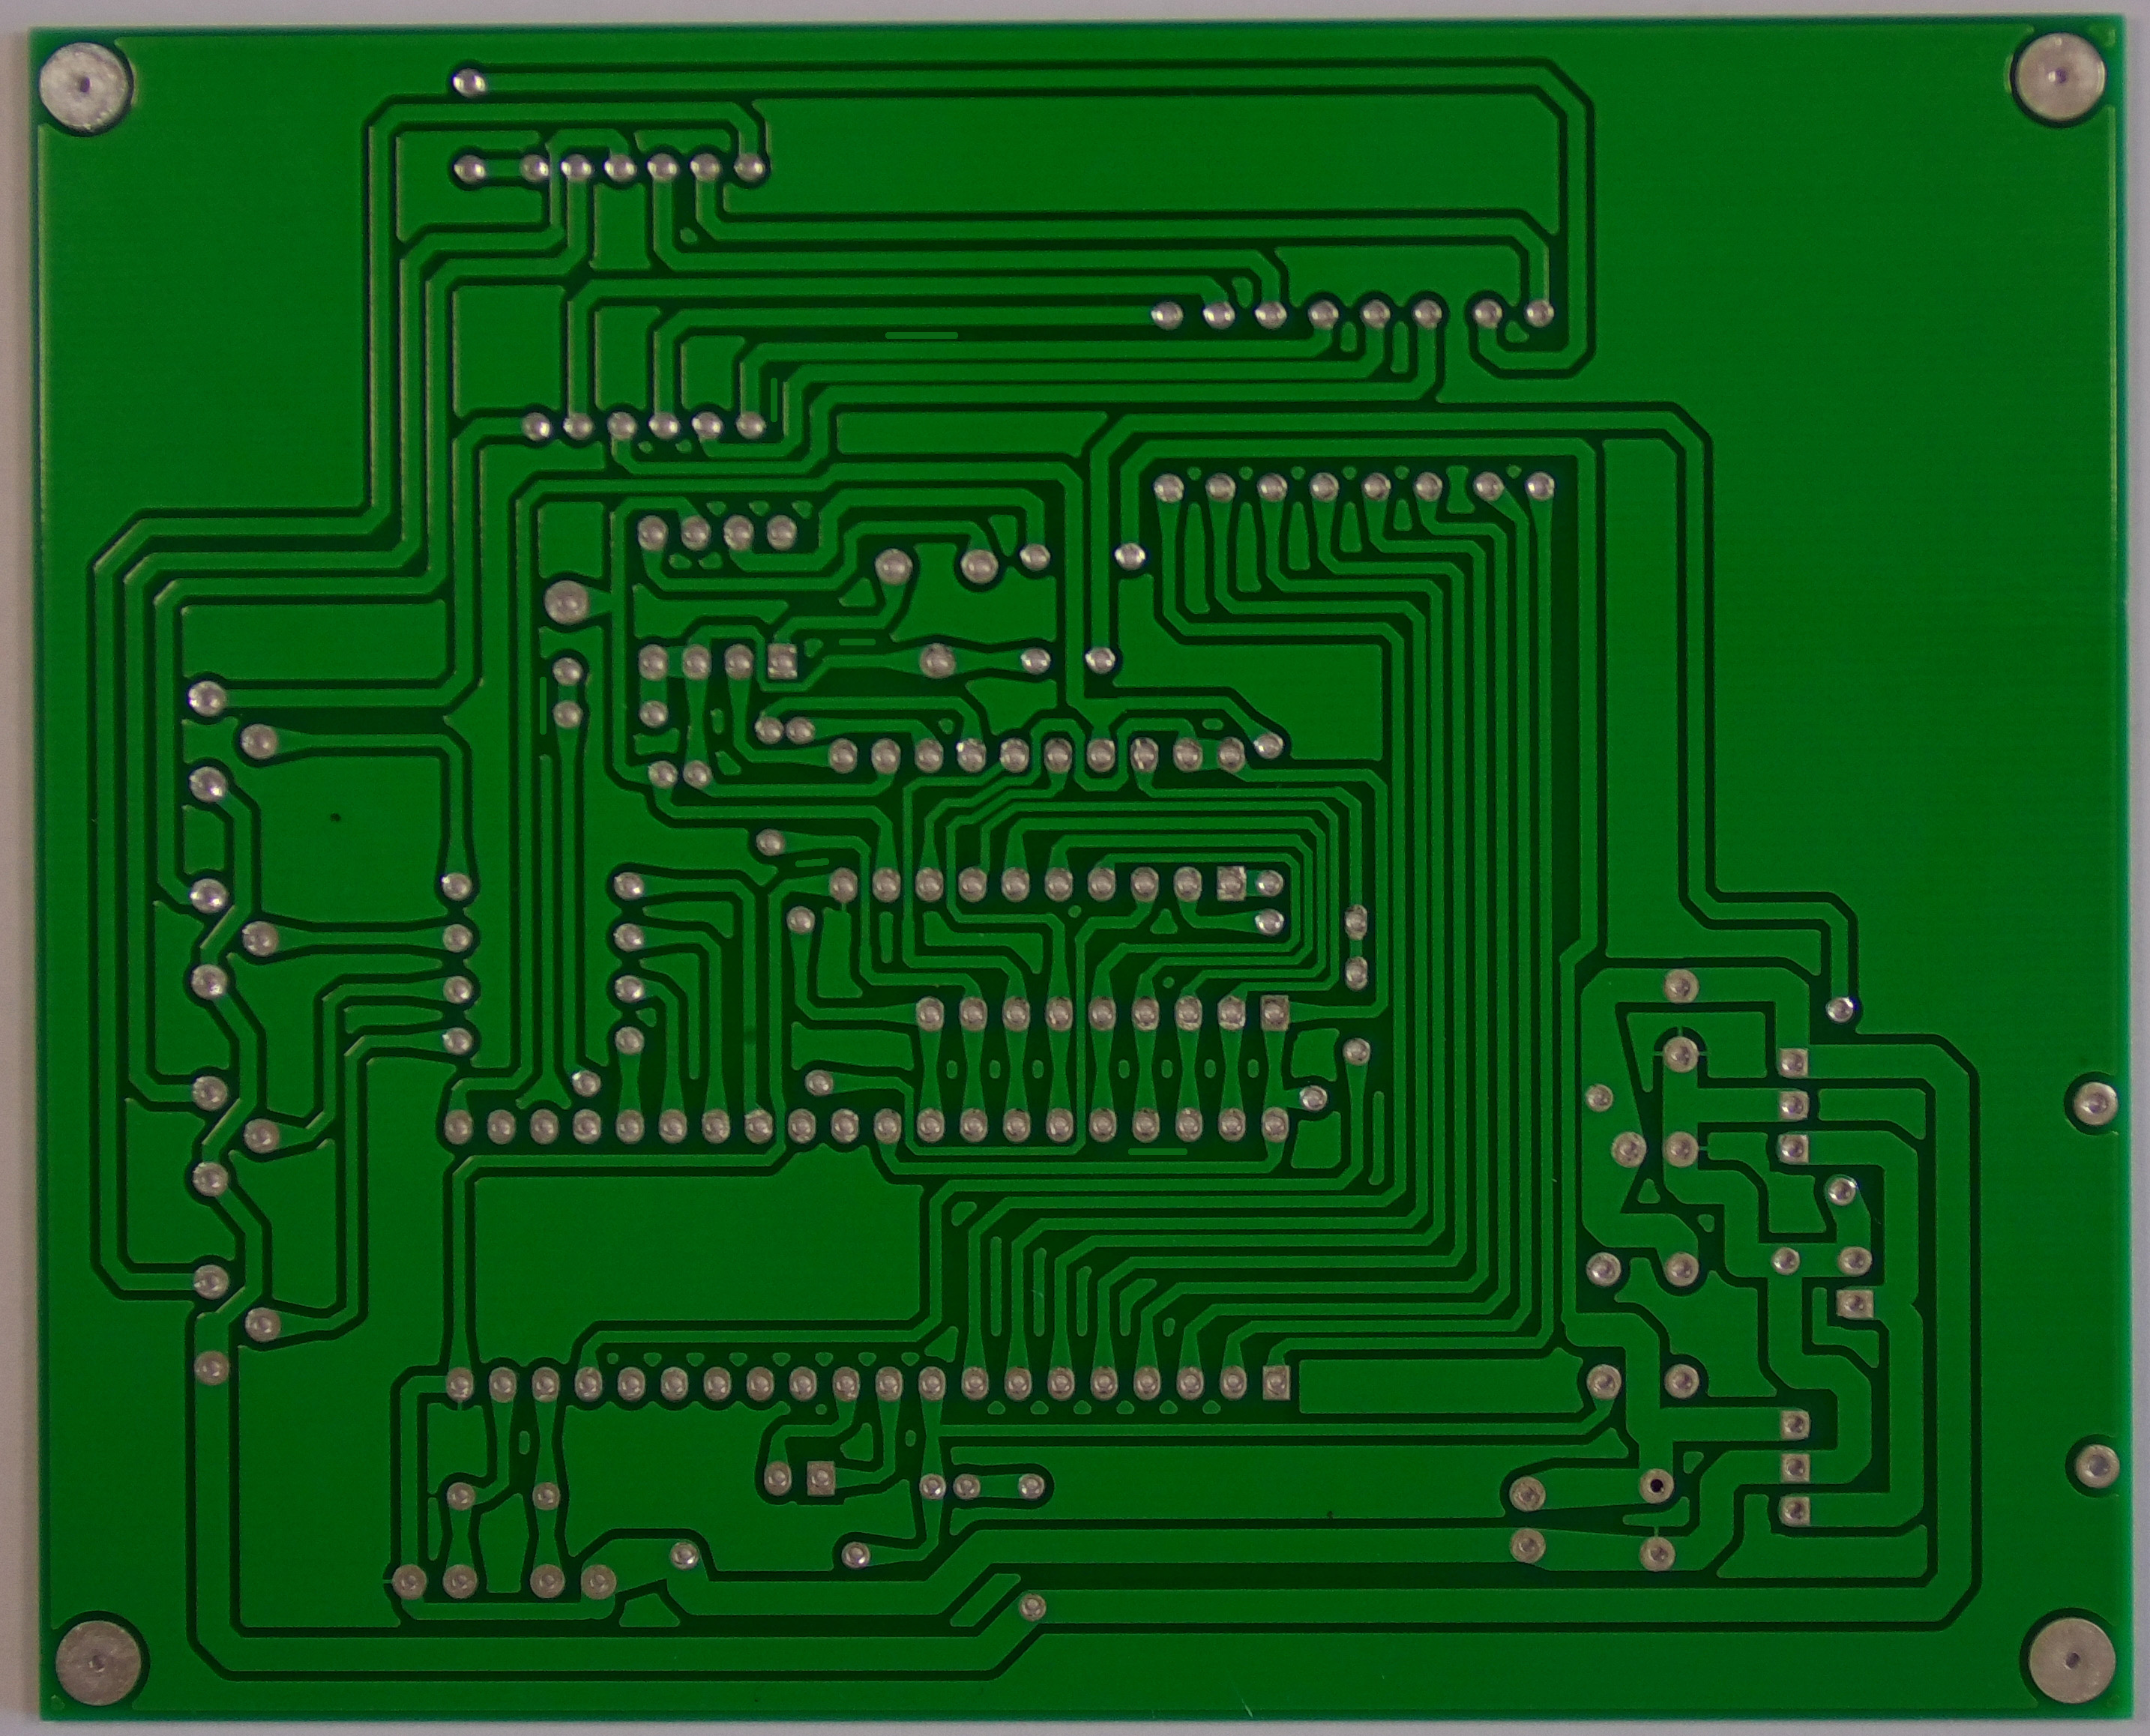spurious_copper: (879, 322, 966, 352), (1122, 1136, 1193, 1166), (529, 669, 555, 743), (831, 625, 885, 654), (791, 852, 835, 878)
